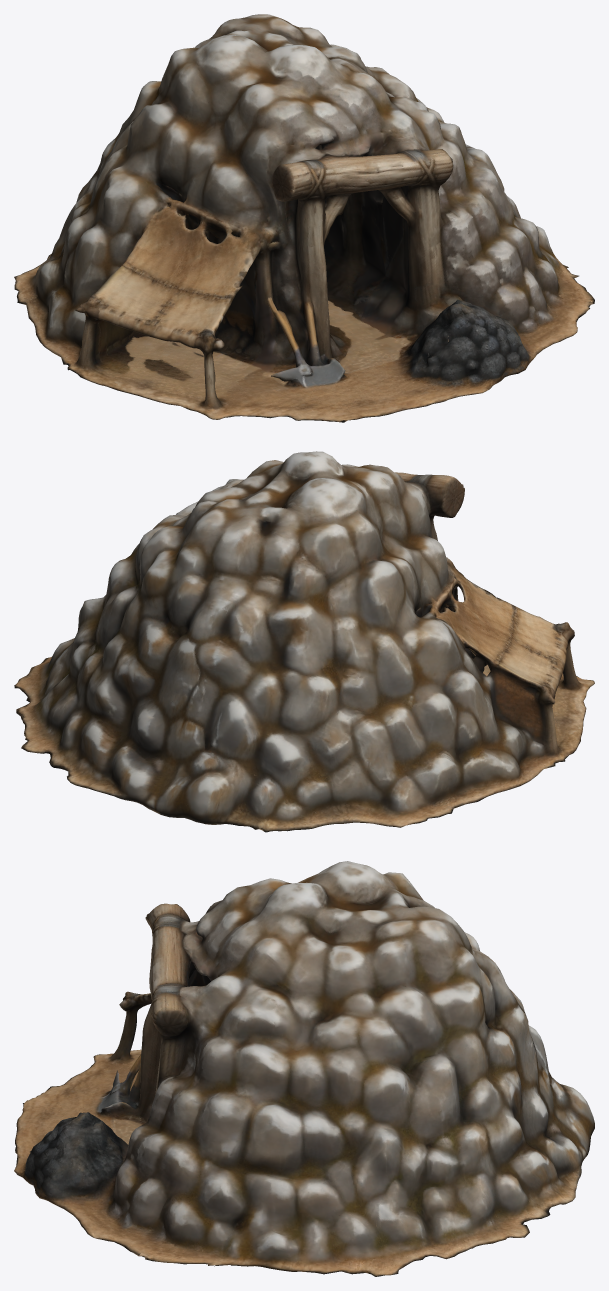
Rendered from Mine (North American Native).fbx.
3 renders of one model, top to bottom at view 1: azimuth 30°, elevation 25°; view 2: azimuth 150°, elevation 25°; view 3: azimuth 270°, elevation 25°, orthographic. The views are drawn at different scales.
Parts seen in each view (by area): view 1: Mesh_0; view 2: Mesh_0; view 3: Mesh_0.
Boxes of the visible parts, box(x1,y1,x2,y2) form: Mesh_0: box(14, 14, 594, 422); Mesh_0: box(14, 451, 594, 832); Mesh_0: box(14, 861, 594, 1276).
Size of the model in its own units: 200 by 100 by 199.
1 material, 1 textured.
